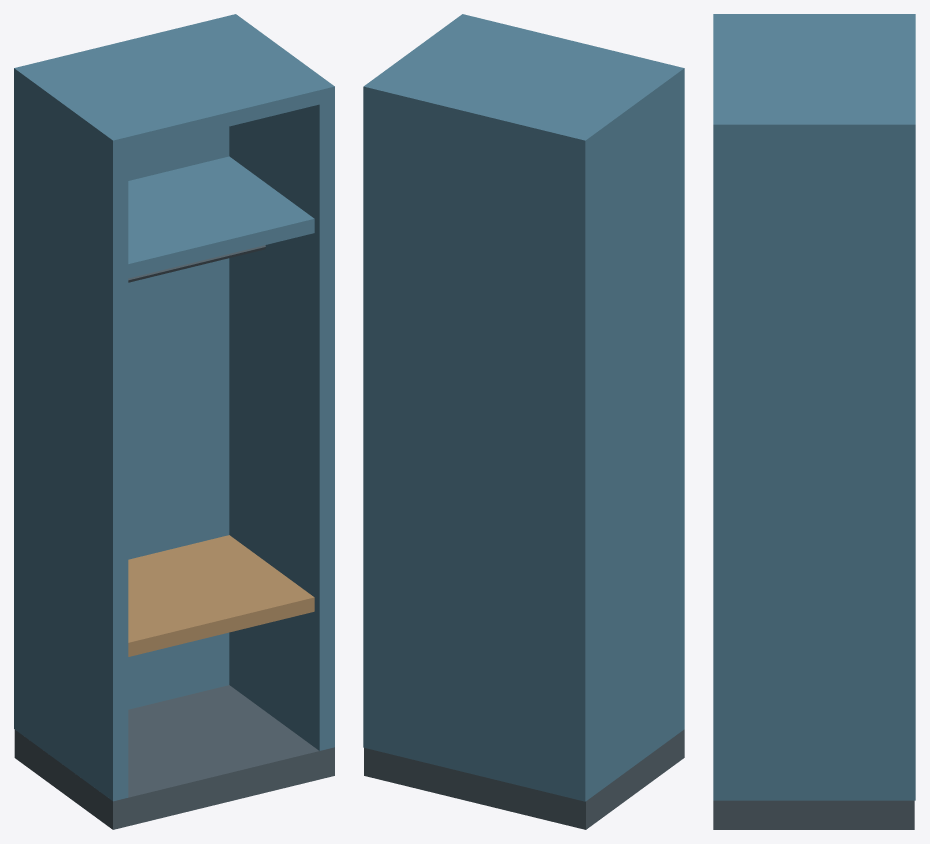
File: football-soccer-club-grounds-open-kit-locker-d10c9b5a.glb
3 views of the same model, side by side, from view 1: azimuth 30°, elevation 25°; view 2: azimuth 150°, elevation 25°; view 3: azimuth 270°, elevation 25° (orthographic). The views are drawn at different scales.
Parts seen in each view (by area): view 1: open-kit-locker; view 2: open-kit-locker; view 3: open-kit-locker.
Part boxes in pixels (left/top/right/bottom): open-kit-locker: left=14, top=14, right=334, bottom=829; open-kit-locker: left=363, top=14, right=684, bottom=829; open-kit-locker: left=713, top=14, right=915, bottom=829.
Size of the model in its own units: 0.65 by 1.93 by 0.5025.
